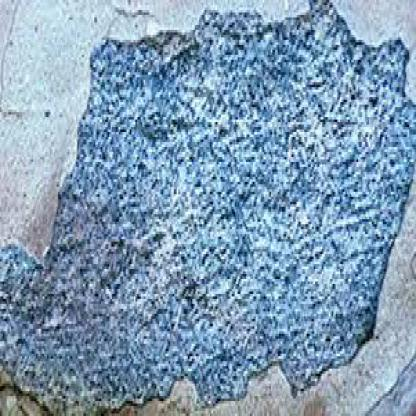Igneous_Diorite: (64, 5, 413, 396)
